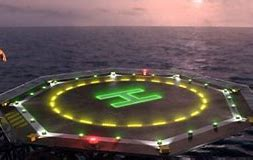H: (95, 88, 162, 108)
